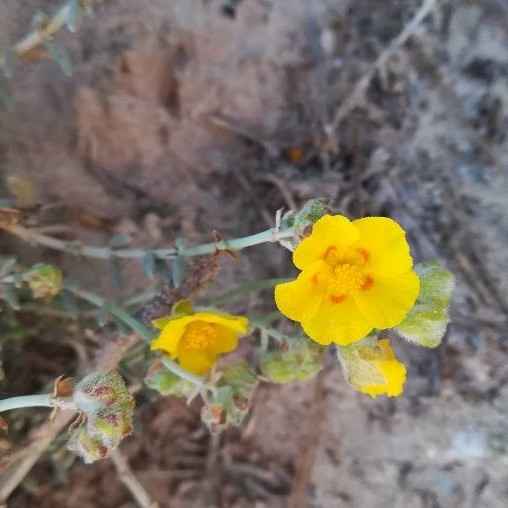obstacle: (49, 188, 444, 411)
